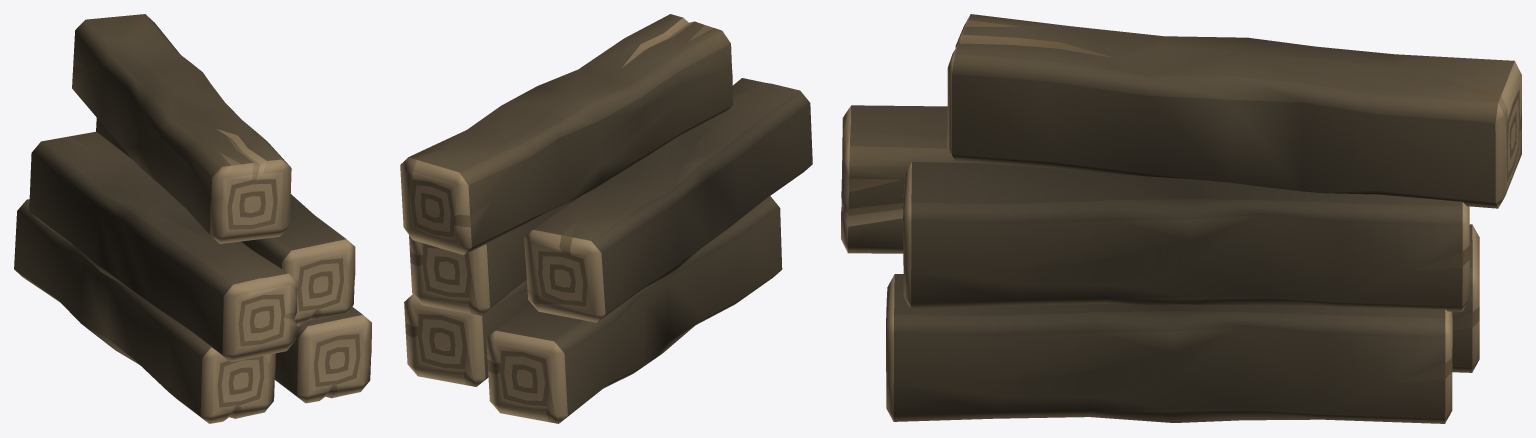
The model's file is orc_beam_pile.fbx.
The picture shows the model from 3 angles, left to right: view 1: azimuth 30°, elevation 25°; view 2: azimuth 150°, elevation 25°; view 3: azimuth 270°, elevation 25°; orthographic projection. The views are drawn at different scales.
Visible parts, largest first — view 1: orc_beam_pile; view 2: orc_beam_pile; view 3: orc_beam_pile.
Boxes of the visible parts, x1=… form: orc_beam_pile: x1=14, y1=14, x2=371, y2=423; orc_beam_pile: x1=400, y1=14, x2=812, y2=423; orc_beam_pile: x1=841, y1=14, x2=1521, y2=423.
Bounding box in the file's own units: 161 × 208 × 378.
